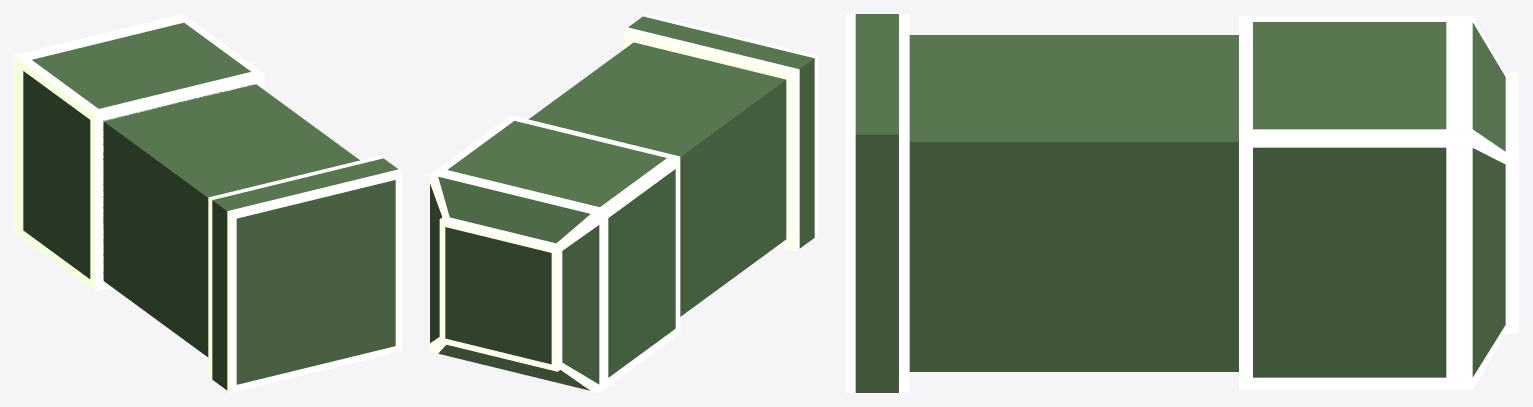
File: AnalDolbitel.fbx
3 renders of one model, left to right at view 1: azimuth 30°, elevation 25°; view 2: azimuth 150°, elevation 25°; view 3: azimuth 270°, elevation 25°, orthographic. The views are drawn at different scales.
Visible parts, largest first — view 1: Cube.002, Cube; view 2: Cube.002, Cube; view 3: Cube.002, Cube.
Boxes of the visible parts, <box> form: Cube.002: <box>14,14,401,392</box>; Cube: <box>18,17,264,291</box>; Cube.002: <box>430,14,817,392</box>; Cube: <box>435,115,680,389</box>; Cube.002: <box>846,14,1518,392</box>; Cube: <box>1239,16,1459,389</box>.
Bounding box in the file's own units: 1420 × 1420 × 3350.
